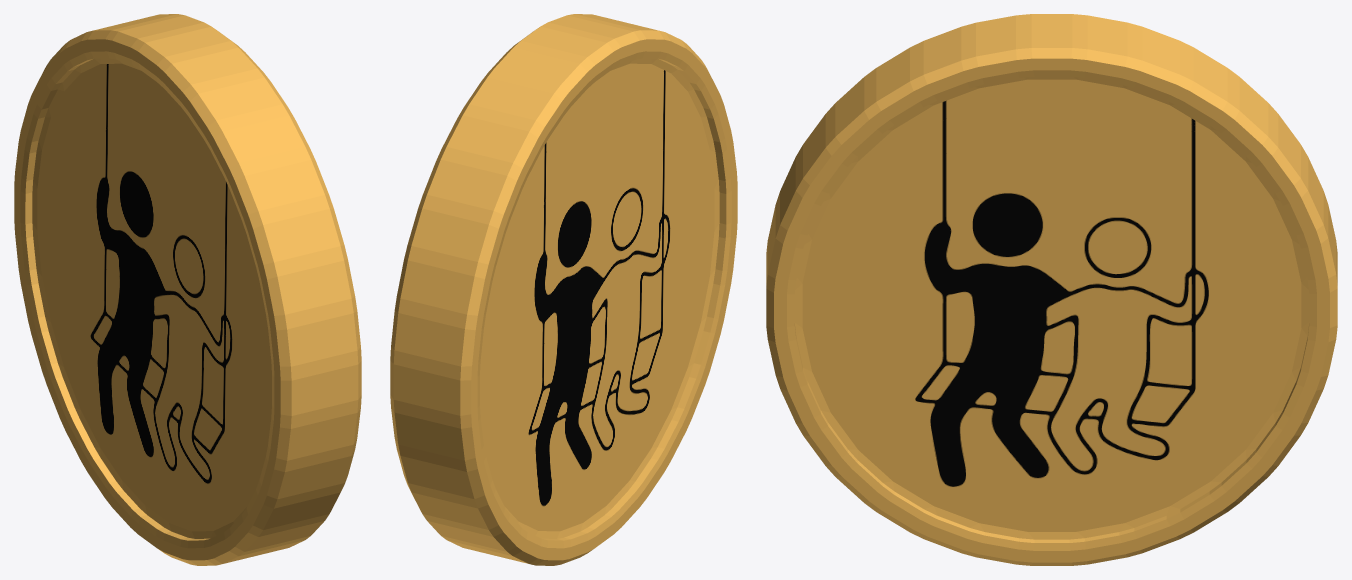
The model's file is mynt.glb.
The picture shows the model from 3 angles, left to right: view 1: azimuth 30°, elevation 25°; view 2: azimuth 150°, elevation 25°; view 3: azimuth 270°, elevation 25°; orthographic projection. The views are drawn at different scales.
Parts seen in each view (by area): view 1: Cylinder; view 2: Cylinder; view 3: Cylinder.
Boxes of the visible parts, left/top/right/bottom form: Cylinder: left=14, top=14, right=361, bottom=565; Cylinder: left=390, top=14, right=737, bottom=565; Cylinder: left=766, top=14, right=1337, bottom=565.
Size of the model in its own units: 0.17 by 0.9952 by 0.9952.
2 materials, 1 textured.
